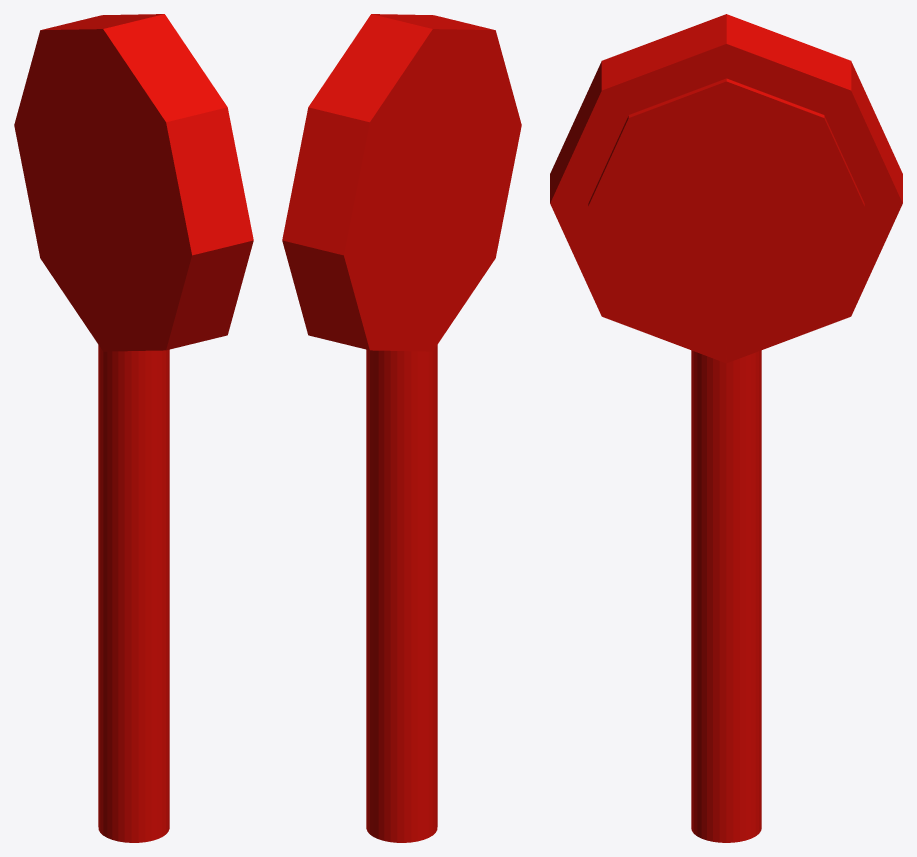
Rendered from StopSign.fbx.
The picture shows the model from 3 angles, left to right: view 1: azimuth 30°, elevation 25°; view 2: azimuth 150°, elevation 25°; view 3: azimuth 270°, elevation 25°; orthographic projection.
Parts seen in each view (by area): view 1: Cylinder.001; view 2: Cylinder.001; view 3: Cylinder.001.
Boxes of the visible parts, x1=… form: Cylinder.001: x1=14, y1=14, x2=253, y2=842; Cylinder.001: x1=282, y1=14, x2=521, y2=842; Cylinder.001: x1=550, y1=14, x2=902, y2=842.
Size of the model in its own units: 11 by 125 by 50.
